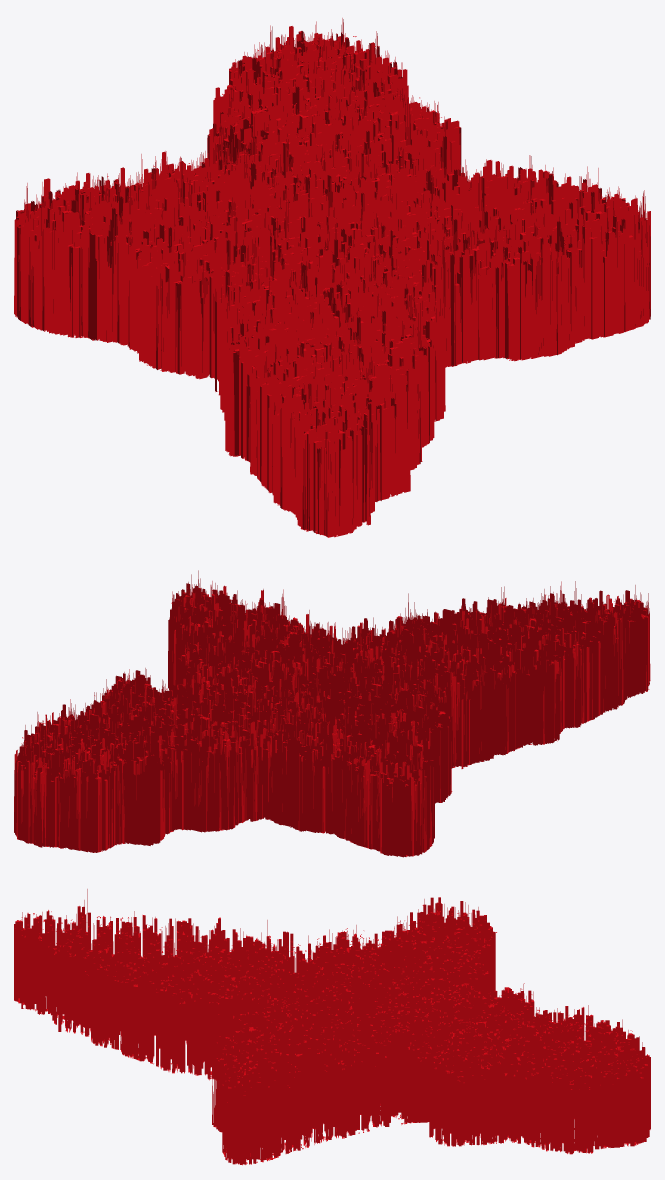
Rendered from test_dendrite.glb.
3 views of the same model, one above another, from view 1: azimuth 30°, elevation 25°; view 2: azimuth 150°, elevation 25°; view 3: azimuth 270°, elevation 25° (orthographic). The views are drawn at different scales.
Parts seen in each view (by area): view 1: mesh0; view 2: mesh0; view 3: mesh0.
Part boxes in pixels (box(x1,y1,x2,y2)): mesh0: box(14, 18, 650, 537); mesh0: box(14, 570, 650, 857); mesh0: box(14, 889, 650, 1165).
Size of the model in its own units: 5.7 by 1.98 by 8.62.
